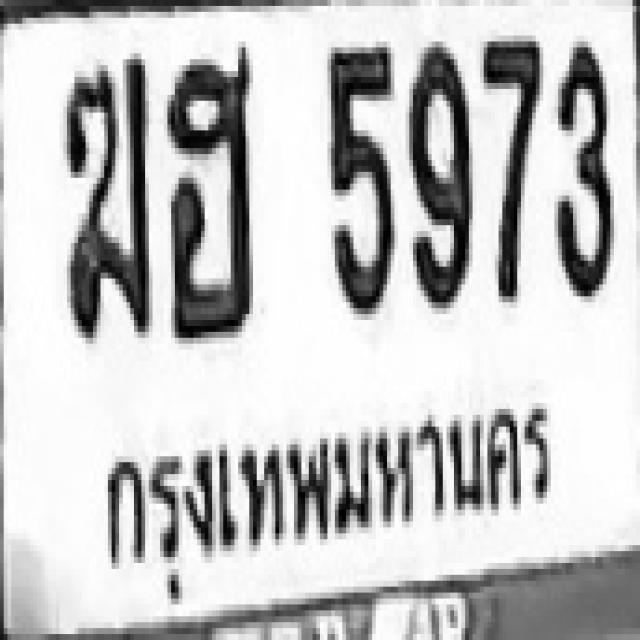15KhorRaKhang: (59, 53, 149, 338)
3: (551, 36, 610, 296)
5: (324, 42, 391, 308)
53HorNokHook: (164, 47, 249, 338)
7: (480, 36, 540, 296)
9: (405, 36, 469, 302)
Bangkok: (96, 374, 561, 619)
